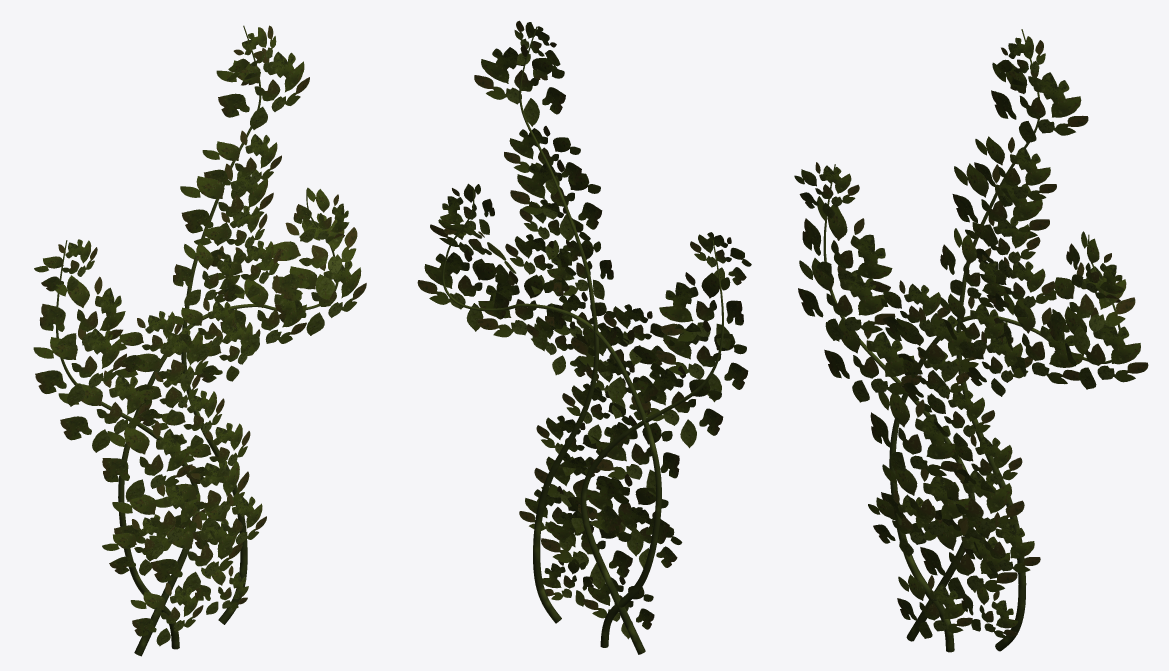
The model's file is SM_VinesUp.fbx.
3 renders of one model, left to right at view 1: azimuth 30°, elevation 25°; view 2: azimuth 150°, elevation 25°; view 3: azimuth 330°, elevation 25°, orthographic. The views are drawn at different scales.
Visible parts, largest first — view 1: SM_Vines2; view 2: SM_Vines2; view 3: SM_Vines2.
Boxes of the visible parts, bbox=[...] form: SM_Vines2: bbox=[33, 25, 366, 656]; SM_Vines2: bbox=[417, 20, 751, 654]; SM_Vines2: bbox=[794, 29, 1148, 652].
Bounding box in the file's own units: 201 × 334 × 29.97.
